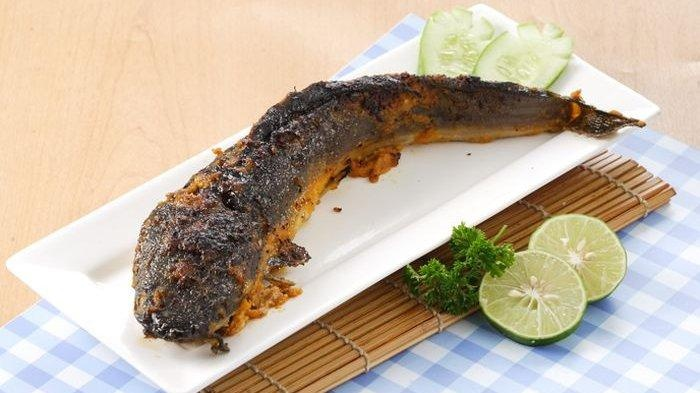pecel_lele: (178, 76, 465, 227)
